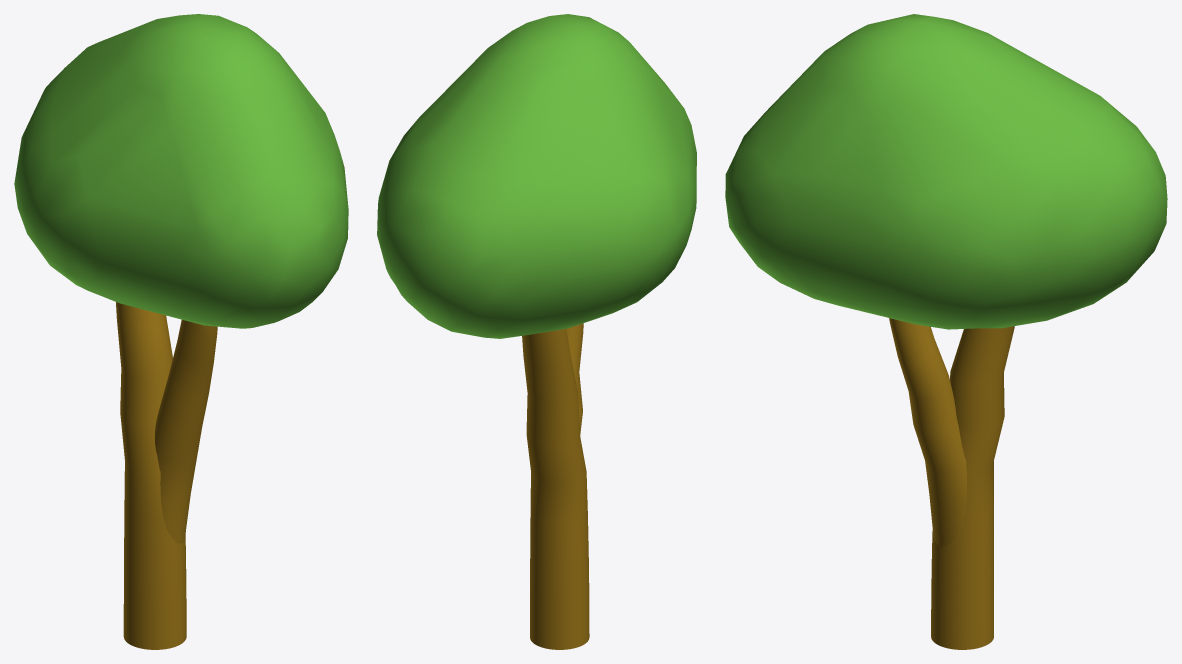
Rendered from Tree01.fbx.
3 renders of one model, left to right at view 1: azimuth 30°, elevation 25°; view 2: azimuth 150°, elevation 25°; view 3: azimuth 270°, elevation 25°, orthographic. The views are drawn at different scales.
Parts seen in each view (by area): view 1: Tree01; view 2: Tree01; view 3: Tree01.
Part boxes in pixels (box(x1,y1,x2,y2)): Tree01: box(14, 14, 348, 649); Tree01: box(377, 14, 696, 649); Tree01: box(725, 14, 1167, 649).
Size of the model in its own units: 556 by 1161 by 743.
Materials: 1 (1 with a texture image).
